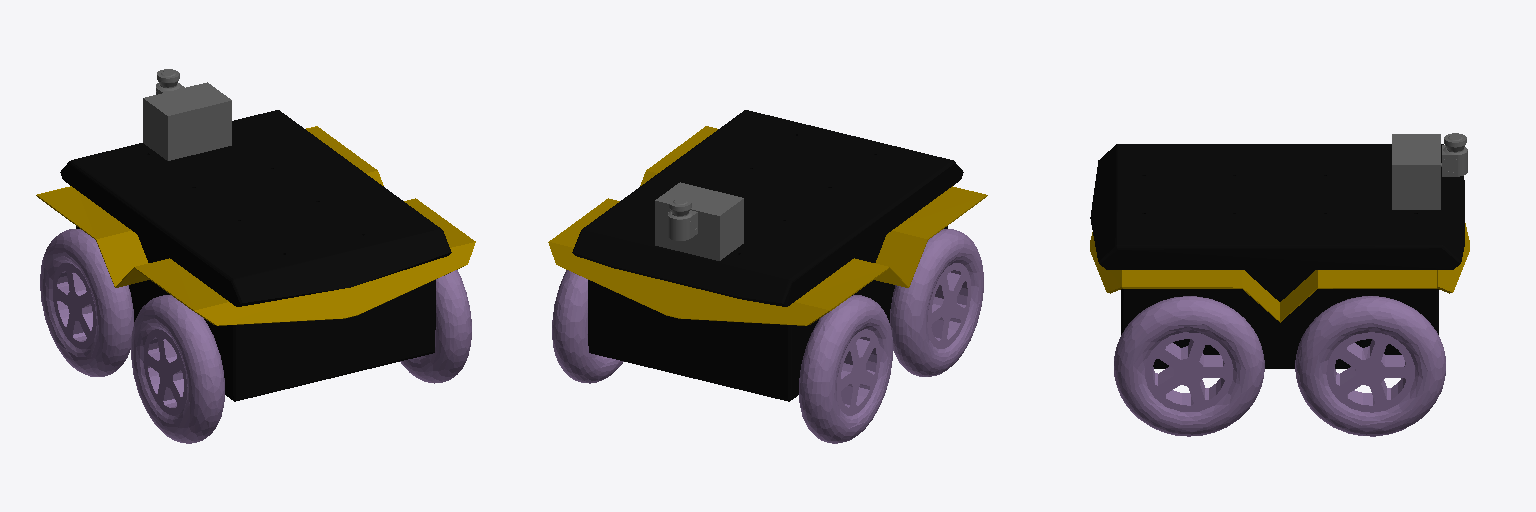
Rendered from mobile_robot.obj.
The picture shows the model from 3 angles: view 1: azimuth 30°, elevation 25°; view 2: azimuth 150°, elevation 25°; view 3: azimuth 270°, elevation 25°; orthographic projection.
Visible parts, largest first — view 1: Jackal; view 2: Jackal; view 3: Jackal.
Part boxes in pixels (x1,y1,x2,y2): Jackal: (36, 69, 475, 443); Jackal: (548, 110, 987, 443); Jackal: (1090, 133, 1469, 436).
Bounding box in the file's own units: 1.31 × 1.05 × 1.53.